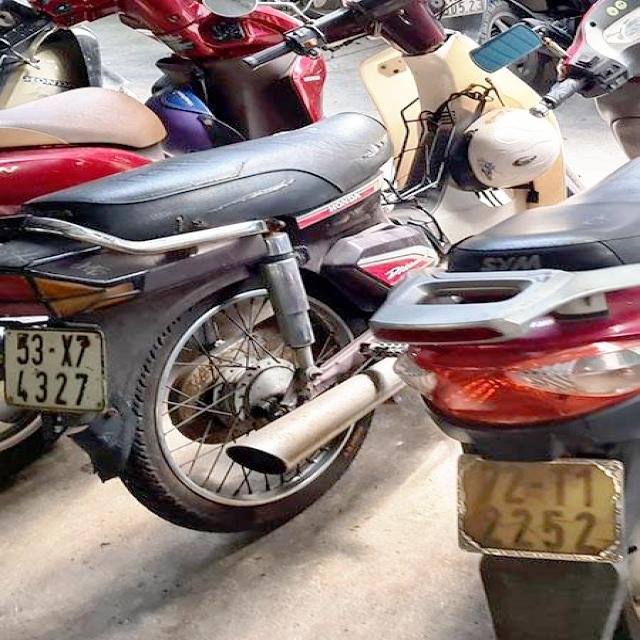license_plate: (461, 454, 631, 562), (7, 329, 106, 412)
